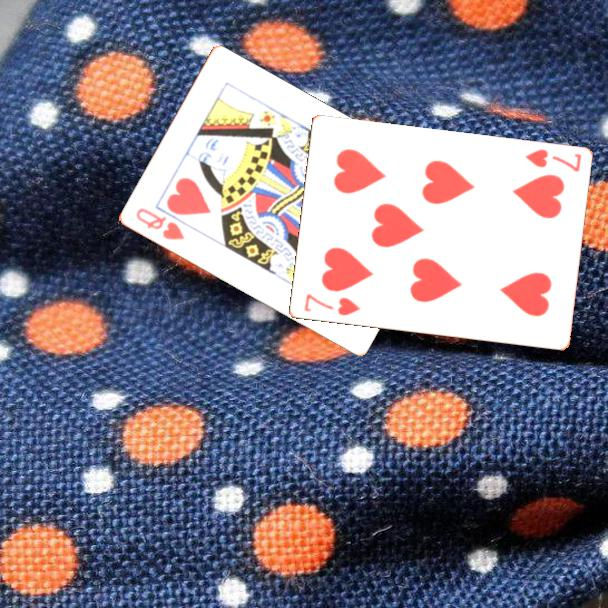h07: (300, 290, 363, 319), (521, 146, 584, 175)
h12: (132, 204, 187, 243)
